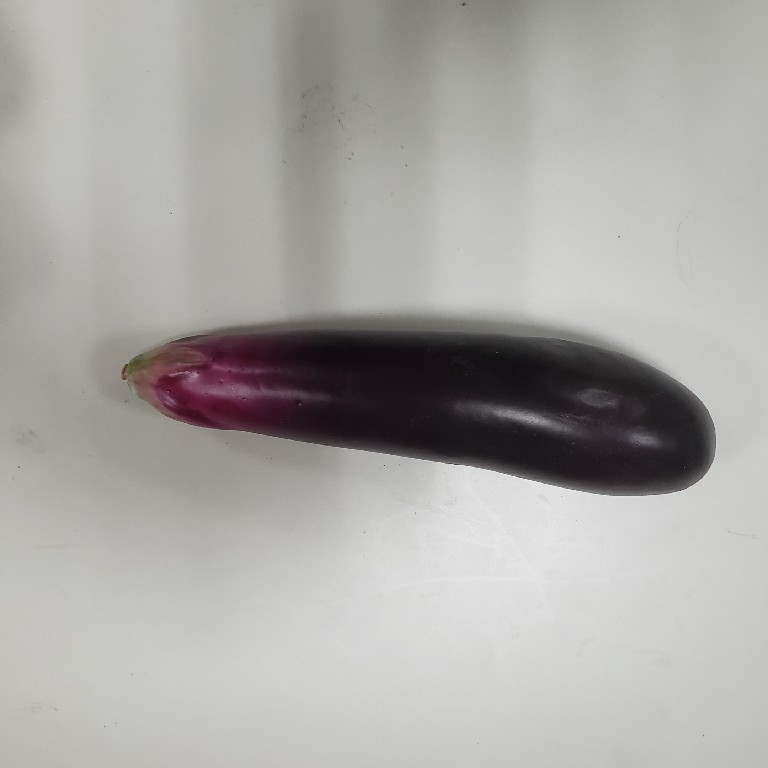fruit_eggplant: (112, 315, 721, 505)
